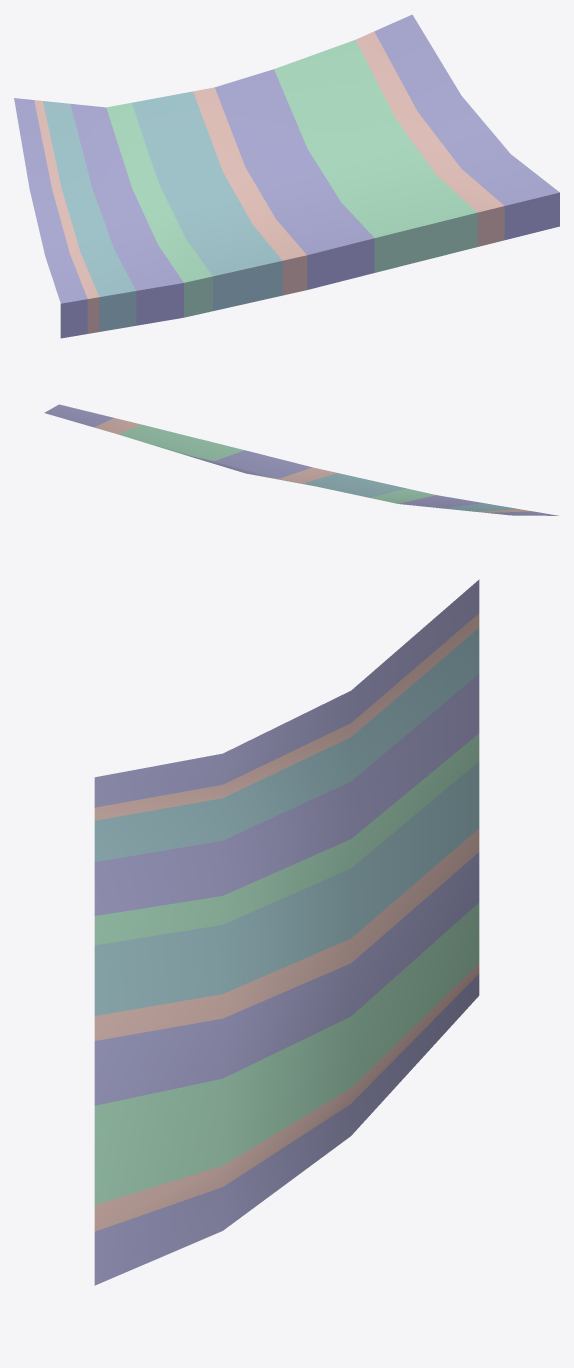
The model's file is RookieShopsAwning.glb.
The picture shows the model from 3 angles, top to bottom: view 1: azimuth 30°, elevation 25°; view 2: azimuth 150°, elevation 25°; view 3: azimuth 270°, elevation 25°; orthographic projection. The views are drawn at different scales.
Parts seen in each view (by area): view 1: RookieShopsAwning; view 2: RookieShopsAwning; view 3: RookieShopsAwning.
Boxes of the visible parts, x1,y1,x2,y2 form: RookieShopsAwning: (14,14,559,338); RookieShopsAwning: (44,404,558,515); RookieShopsAwning: (94,579,479,1285).
Size of the model in its own units: 2.51 by 0.8151 by 0.8377.
